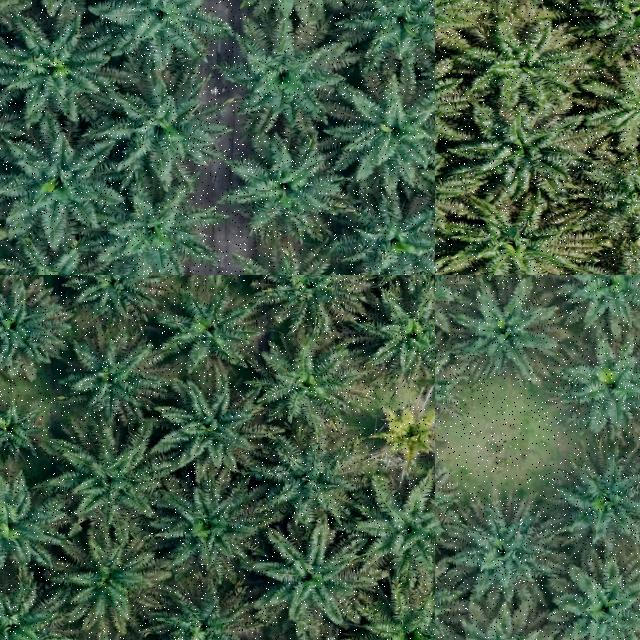Ganoderma: (376, 402, 435, 464)
